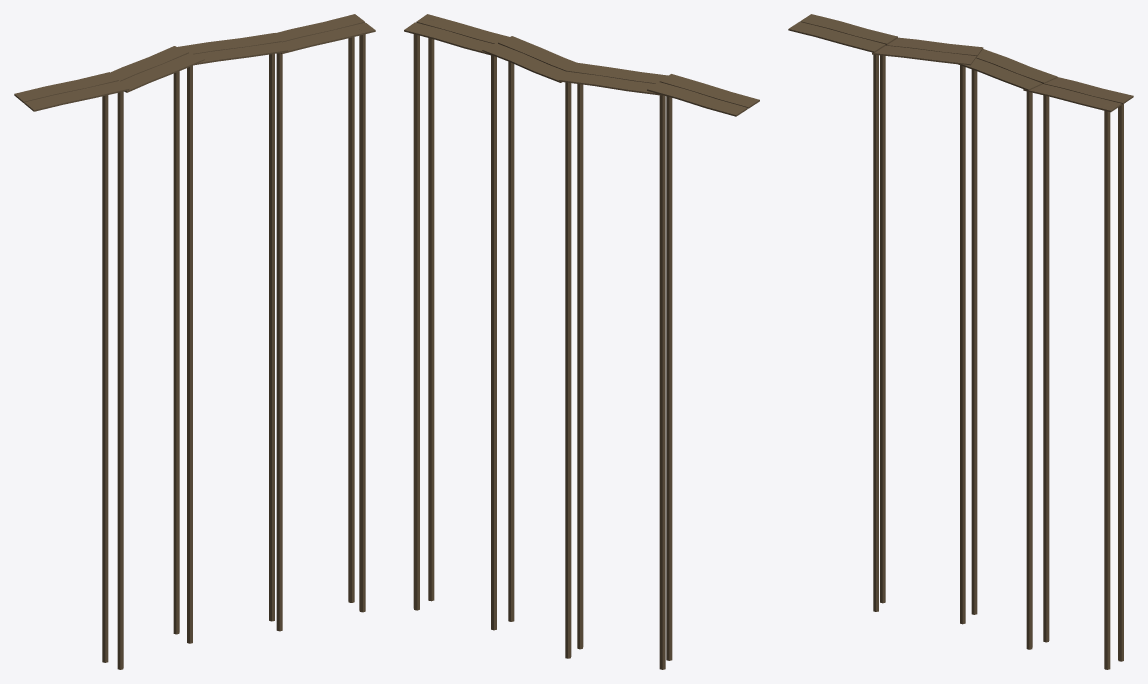
Rendered from LV5Plank.glb.
The picture shows the model from 3 angles, left to right: view 1: azimuth 30°, elevation 25°; view 2: azimuth 150°, elevation 25°; view 3: azimuth 330°, elevation 25°; orthographic projection. The views are drawn at different scales.
Parts seen in each view (by area): view 1: Cube.007; view 2: Cube.007; view 3: Cube.007.
Part boxes in pixels (x1,y1,x2,y2): Cube.007: [14, 14, 375, 669]; Cube.007: [404, 14, 759, 669]; Cube.007: [788, 14, 1133, 669].
Size of the model in its own units: 5.71 by 9.39 by 1.01.
